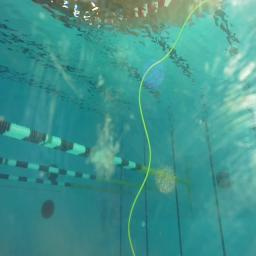Full: (216, 171, 232, 189)
